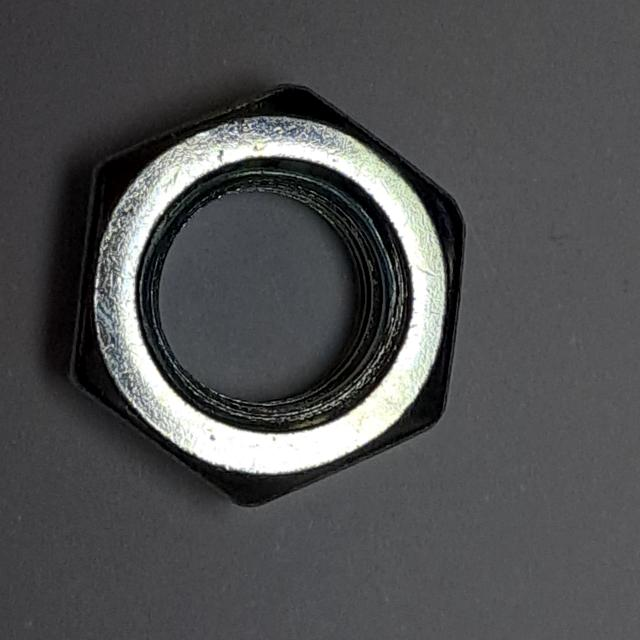Excellent: (61, 64, 480, 519)
